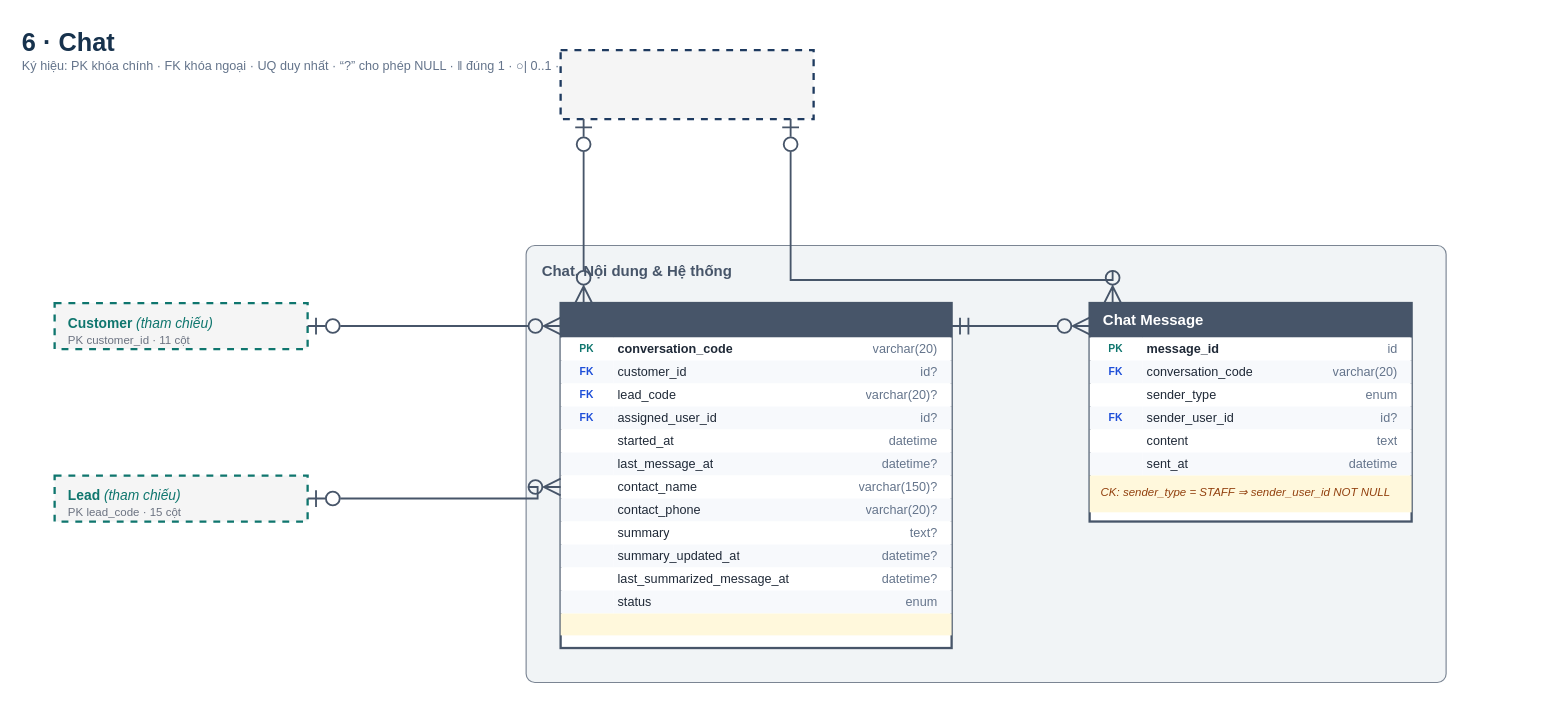
Image size: 1557x703. Some labels were removed from this diagram. Here are the shapes that lost their labels. From the top down, the centre of each, then its label:
the point at 686,84: User (tham chiếu) PK user_id · 17 cột
the point at 755,319: Chat Conversation
the point at 755,624: CK: lead_code có giá trị ⇒ Lead.customer_id = customer_id
